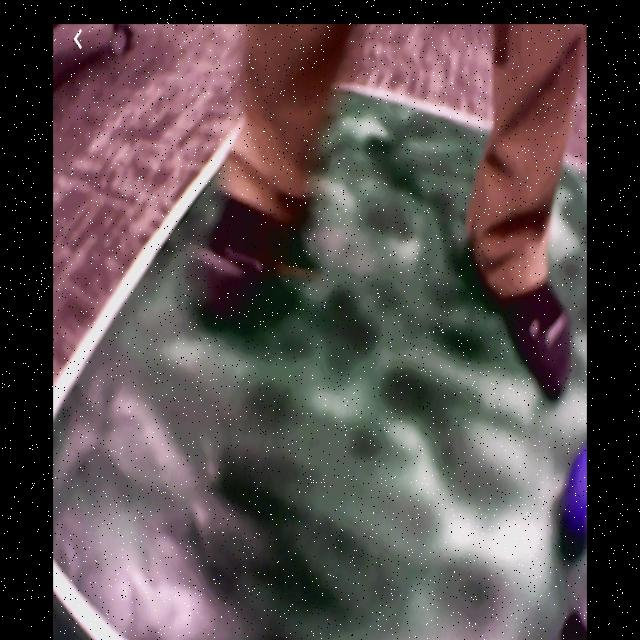ball: (568, 444, 588, 540)
